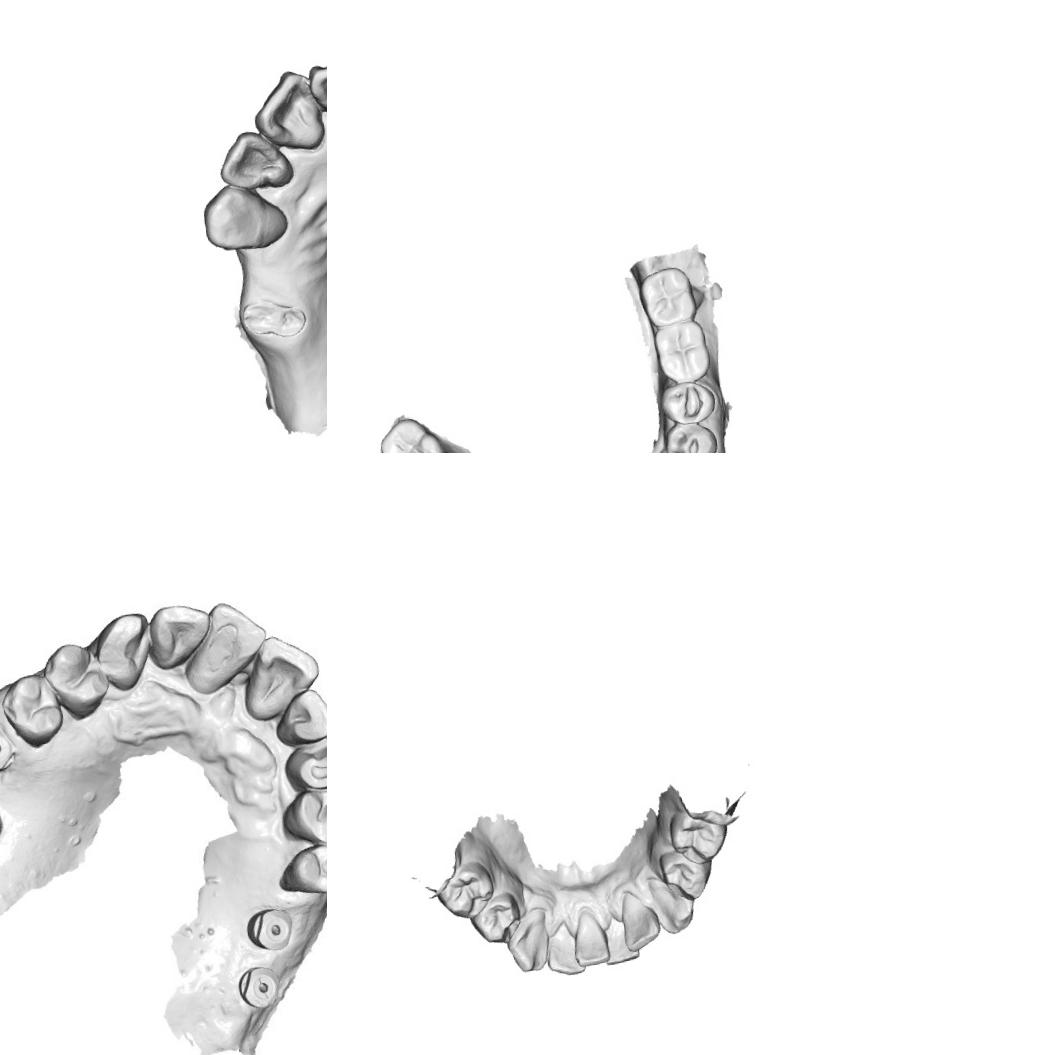canine: (198, 177, 296, 258), (96, 608, 160, 690), (502, 910, 550, 974), (652, 882, 699, 936), (289, 735, 327, 797)
implant: (248, 902, 298, 951), (0, 723, 14, 771)
implant_minus: (236, 960, 285, 1016)
incisor: (181, 598, 270, 695), (245, 65, 327, 158), (240, 632, 322, 715), (213, 125, 296, 194), (148, 600, 215, 670), (277, 688, 327, 744), (619, 899, 663, 953), (544, 929, 585, 980), (305, 50, 327, 136), (570, 924, 611, 968), (601, 924, 641, 967)
molar: (650, 317, 716, 387), (634, 262, 700, 332), (374, 413, 446, 453)
premolar: (0, 669, 69, 745), (49, 640, 111, 716), (432, 858, 498, 924), (667, 806, 732, 867), (656, 842, 718, 904), (656, 376, 720, 428), (467, 890, 524, 947), (288, 837, 327, 900), (289, 785, 327, 842), (659, 419, 720, 453)
